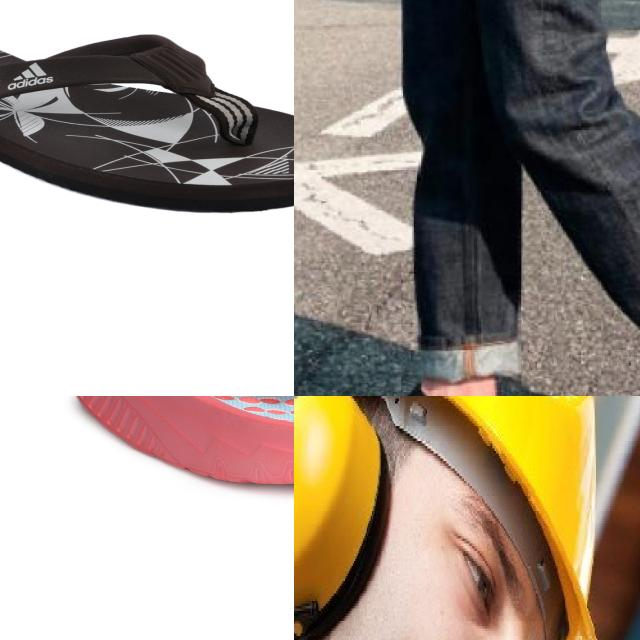Ear-protection: (294, 396, 390, 640)
Sandals: (0, 31, 294, 215), (65, 396, 294, 486)
head_helmet: (294, 396, 612, 640)
